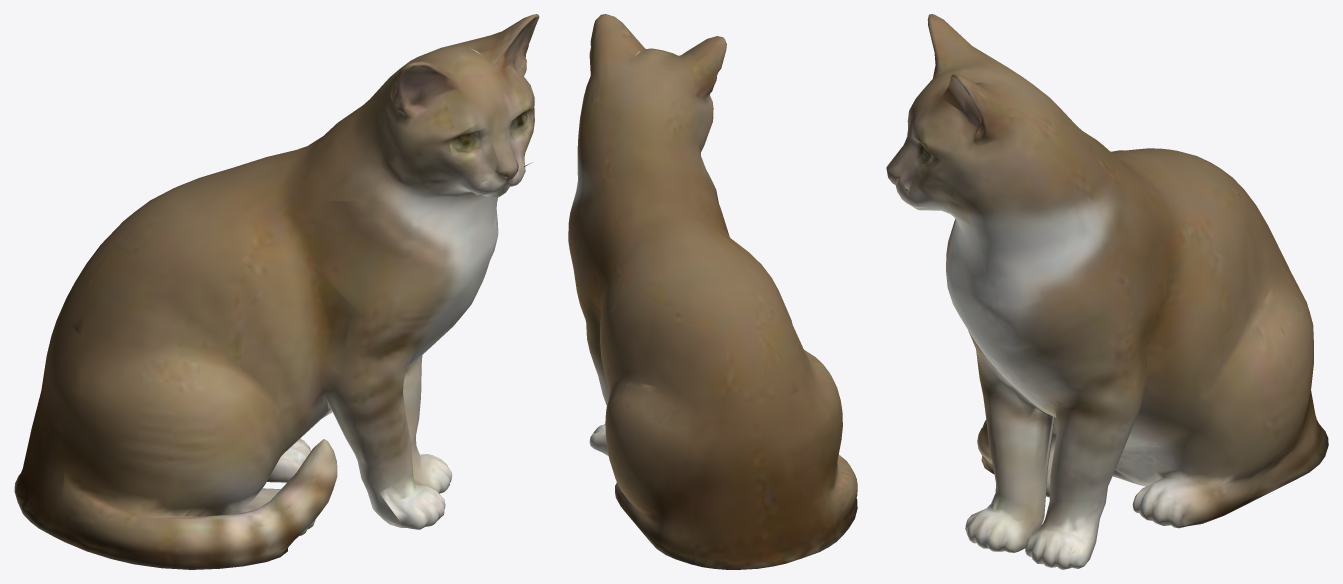
Rendered from cat-sit-m.glb.
3 renders of one model, left to right at view 1: azimuth 30°, elevation 25°; view 2: azimuth 150°, elevation 25°; view 3: azimuth 270°, elevation 25°, orthographic. The views are drawn at different scales.
Parts seen in each view (by area): view 1: cat-sit; view 2: cat-sit; view 3: cat-sit.
Boxes of the visible parts, <box> form: cat-sit: <box>14,14,539,569</box>; cat-sit: <box>568,14,857,569</box>; cat-sit: <box>886,14,1328,569</box>.
Size of the model in its own units: 0.2713 by 0.3203 by 0.2475.
Materials: 1 (1 with a texture image).
